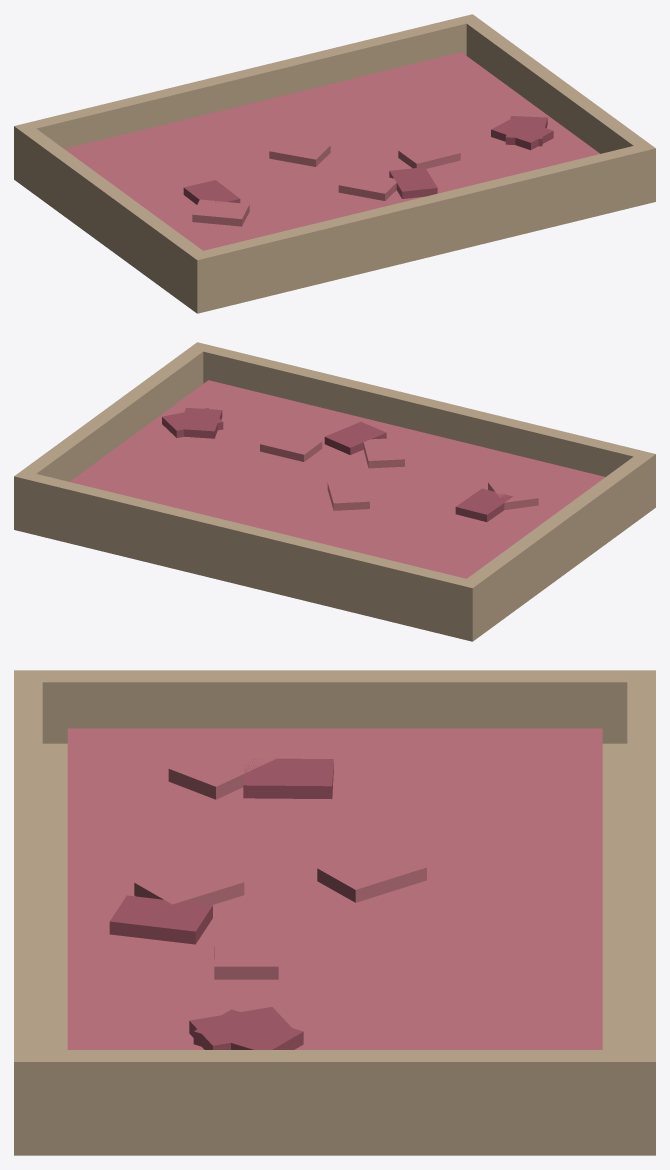
Rendered from prop-rose-petal-tray.fbx.
The picture shows the model from 3 angles, top to bottom: view 1: azimuth 30°, elevation 25°; view 2: azimuth 150°, elevation 25°; view 3: azimuth 270°, elevation 25°; orthographic projection. The views are drawn at different scales.
Visible parts, largest first — view 1: prop-rose-petal-tray; view 2: prop-rose-petal-tray; view 3: prop-rose-petal-tray.
Part boxes in pixels (<box>): prop-rose-petal-tray: <box>14,14,655,313</box>; prop-rose-petal-tray: <box>14,342,655,641</box>; prop-rose-petal-tray: <box>14,670,655,1155</box>.
Bounding box in the file's own units: 26 × 2.9 × 18.
